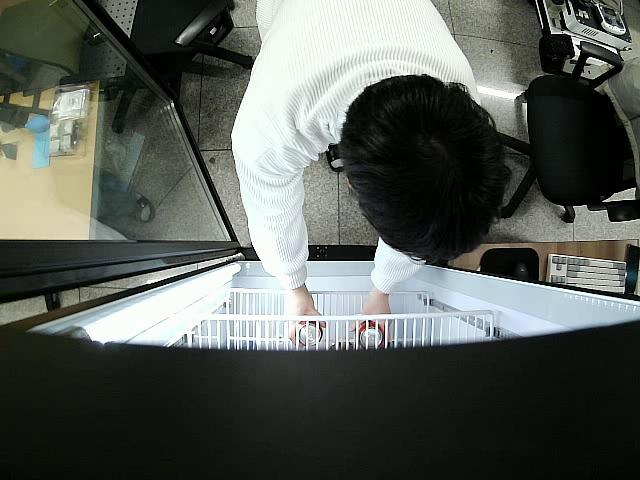00_hand: (282, 292, 327, 348), (349, 292, 392, 350)
11_cocaColaZero: (357, 317, 386, 351)
